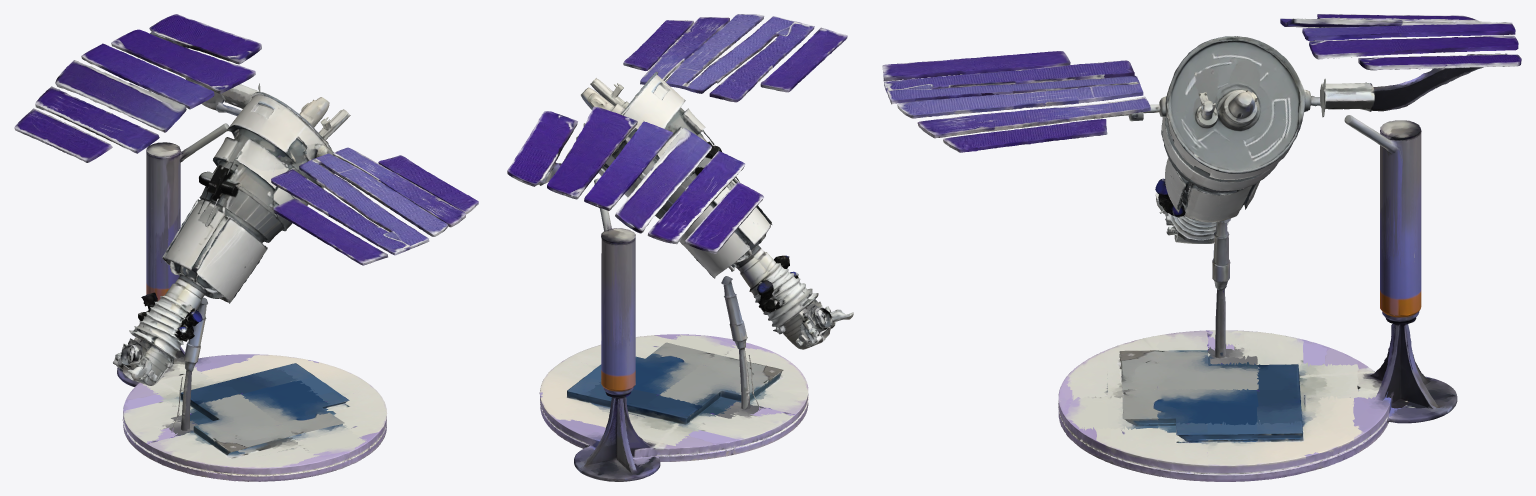
Rendered from technology-14.glb.
The picture shows the model from 3 angles, left to right: view 1: azimuth 30°, elevation 25°; view 2: azimuth 150°, elevation 25°; view 3: azimuth 270°, elevation 25°; orthographic projection. The views are drawn at different scales.
Bounding box in the file's own units: 0.9516 × 1.1 × 1.63.
1 material, 1 textured.
